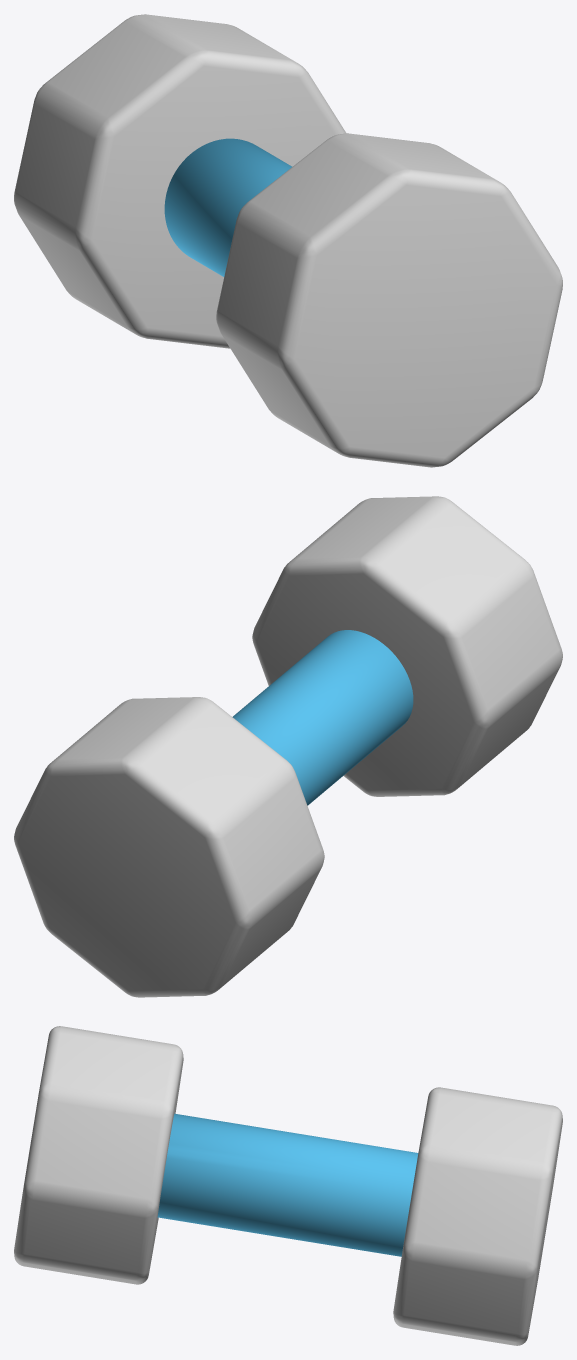
File: weight.glb
The picture shows the model from 3 angles, top to bottom: view 1: azimuth 30°, elevation 25°; view 2: azimuth 150°, elevation 25°; view 3: azimuth 270°, elevation 25°; orthographic projection. The views are drawn at different scales.
Visible parts, largest first — view 1: weight/glass, weight/glass.001, bar/color; view 2: weight/glass.001, weight/glass, bar/color; view 3: weight/glass.001, weight/glass, bar/color.
Boxes of the visible parts, bbox=[...] form: weight/glass: bbox=[216, 133, 562, 467]; weight/glass.001: bbox=[14, 14, 346, 348]; bar/color: bbox=[164, 138, 292, 276]; weight/glass.001: bbox=[14, 697, 324, 997]; weight/glass: bbox=[252, 496, 562, 796]; bar/color: bbox=[232, 630, 413, 805]; weight/glass.001: bbox=[393, 1087, 562, 1345]; weight/glass: bbox=[14, 1026, 183, 1284]; bar/color: bbox=[157, 1113, 418, 1256].
Size of the model in its own units: 1.32 by 1.45 by 2.48.
